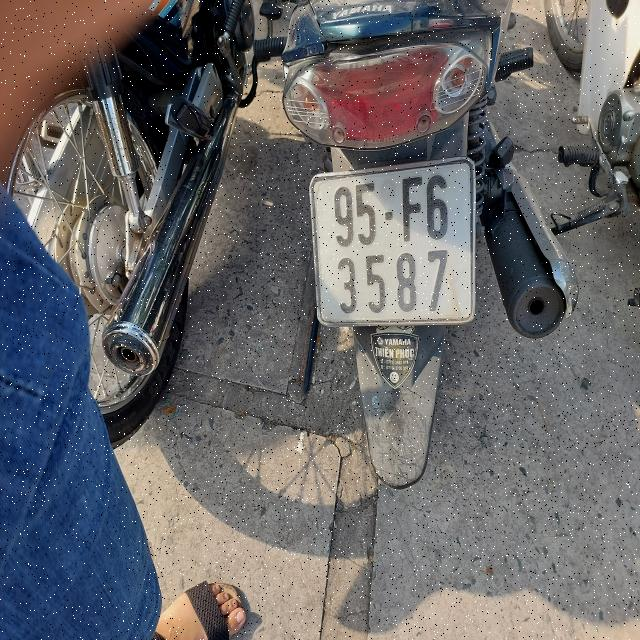3: (335, 256, 360, 315)
5: (364, 253, 390, 315), (354, 182, 376, 248)
6: (422, 175, 452, 246)
7: (422, 250, 453, 312)
8: (392, 248, 418, 322)
9: (329, 187, 356, 249)
F: (400, 176, 424, 244)
